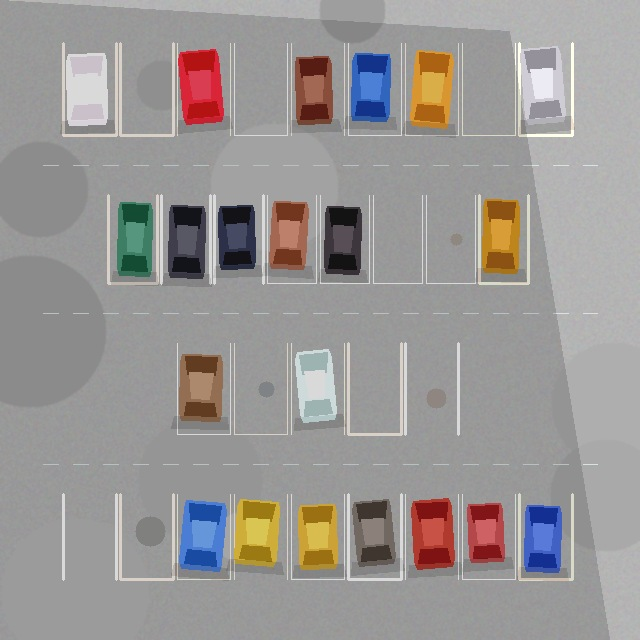space-empty: (120, 43, 173, 135), (234, 43, 287, 135), (462, 43, 515, 135), (234, 343, 287, 434), (348, 343, 401, 434), (405, 343, 458, 434), (63, 494, 116, 579), (120, 494, 173, 579), (373, 195, 422, 283), (426, 195, 475, 283)
space-occupied: (63, 43, 116, 135), (177, 43, 230, 135), (291, 43, 344, 135), (348, 43, 401, 135), (405, 43, 458, 135), (519, 43, 572, 135), (177, 343, 230, 434), (291, 343, 344, 434), (177, 494, 230, 579), (234, 494, 287, 579), (291, 494, 344, 579), (348, 494, 401, 579), (405, 494, 458, 579), (462, 494, 515, 579), (519, 494, 572, 579), (108, 195, 157, 283), (161, 195, 210, 283), (214, 195, 263, 283), (267, 195, 316, 283), (320, 195, 369, 283), (479, 195, 528, 283)
